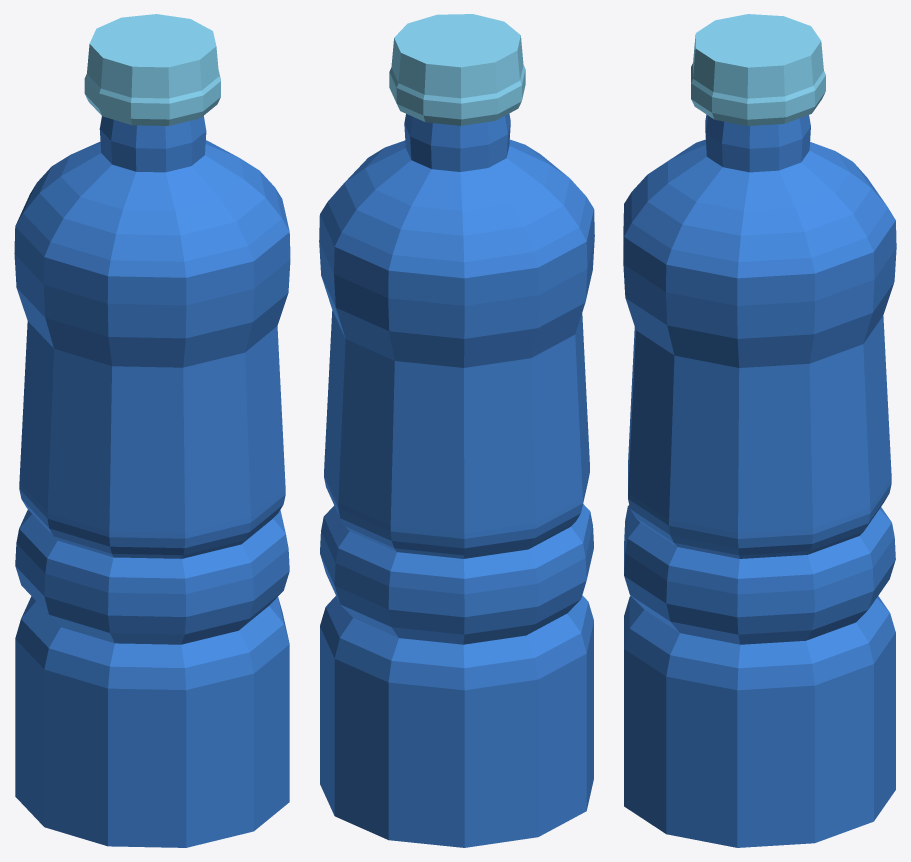
Rendered from Garrafa_dagua.fbx.
3 views of the same model, side by side, from view 1: azimuth 30°, elevation 25°; view 2: azimuth 150°, elevation 25°; view 3: azimuth 270°, elevation 25° (orthographic).
Parts seen in each view (by area): view 1: Cylinder; view 2: Cylinder; view 3: Cylinder.
Part boxes in pixels (x1=…): Cylinder: x1=14, y1=14, x2=290, y2=847; Cylinder: x1=319, y1=14, x2=594, y2=847; Cylinder: x1=623, y1=14, x2=896, y2=847.
Size of the model in its own units: 154 by 461 by 152.
